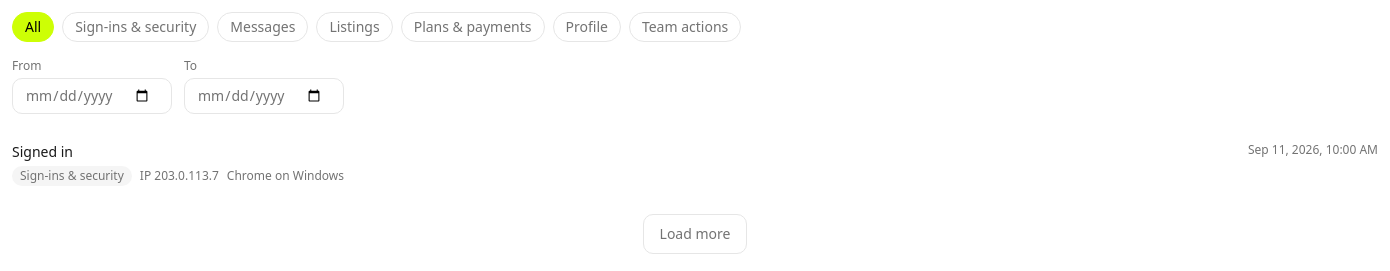
MemberActivityLog › fetches the next page from where the last ended, and one kind at a time
Click the button "Load more" at (695,234), box left=643, top=214, right=748, bottom=254
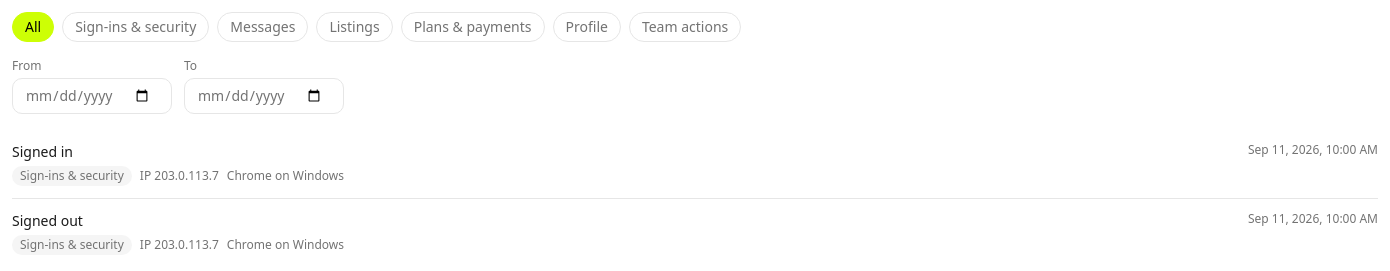
Check: the text "Signed out" is shown, box left=12, top=211, right=83, bottom=230
Click the button "Messages" at (263,27), box left=217, top=12, right=308, bottom=42
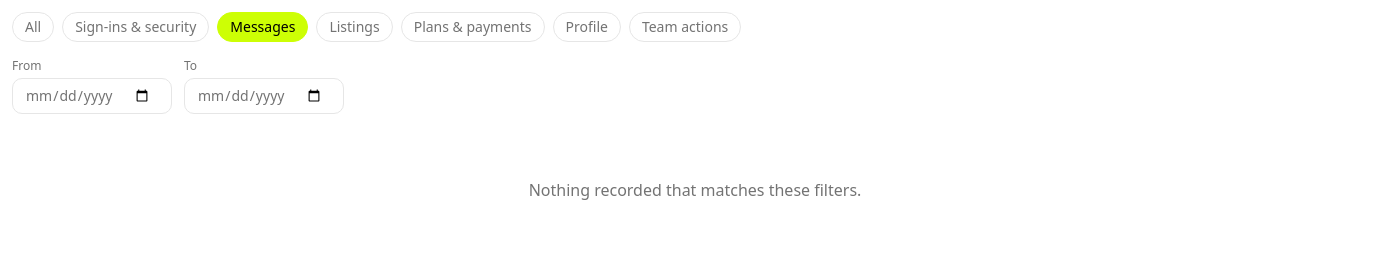
Check: the text "Nothing recorded that matches these filters." is shown, box left=529, top=179, right=861, bottom=201
